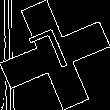L_SE: (31, 26, 79, 84)
